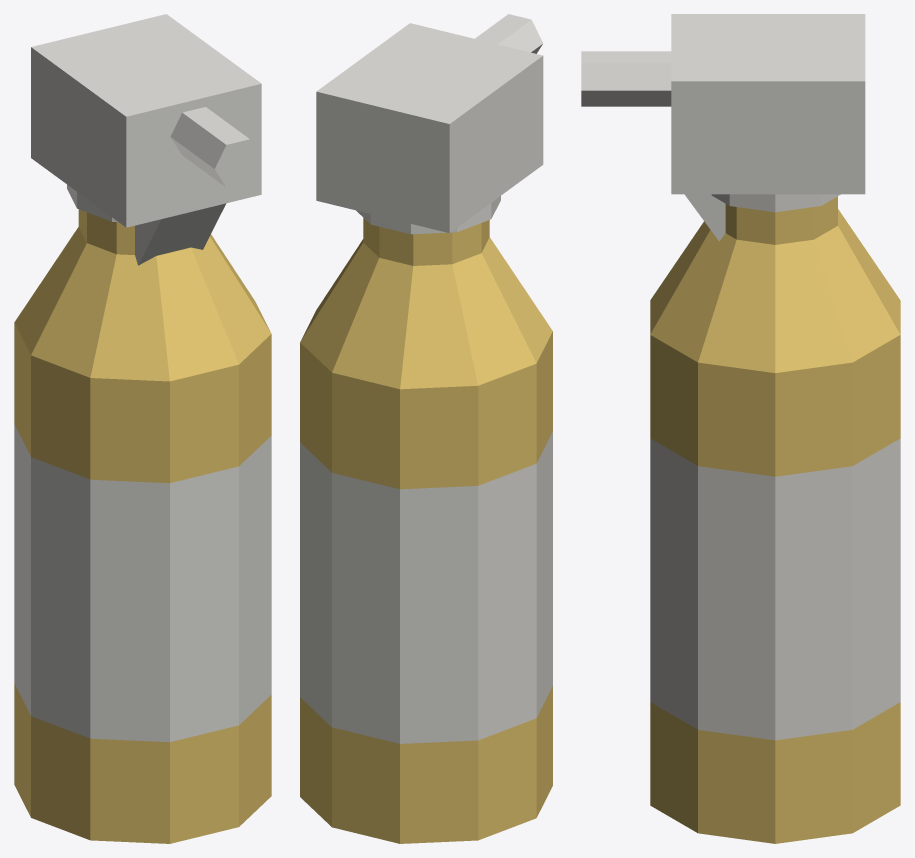
Rendered from cleaner.glb.
The picture shows the model from 3 angles, left to right: view 1: azimuth 30°, elevation 25°; view 2: azimuth 150°, elevation 25°; view 3: azimuth 270°, elevation 25°; orthographic projection. The views are drawn at different scales.
Visible parts, largest first — view 1: NC_cleaner; view 2: NC_cleaner; view 3: NC_cleaner.
Part boxes in pixels (left/top/right/bottom): NC_cleaner: left=14, top=14, right=271, bottom=843; NC_cleaner: left=300, top=14, right=552, bottom=843; NC_cleaner: left=581, top=14, right=900, bottom=843.
Bounding box in the file's own units: 0.076 × 0.236 × 0.0921.
